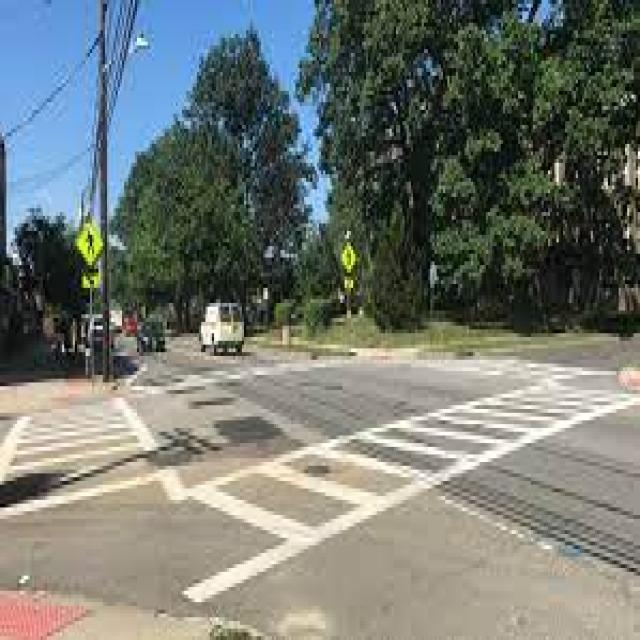Crosswalk: (166, 382, 639, 610), (0, 394, 179, 518)
